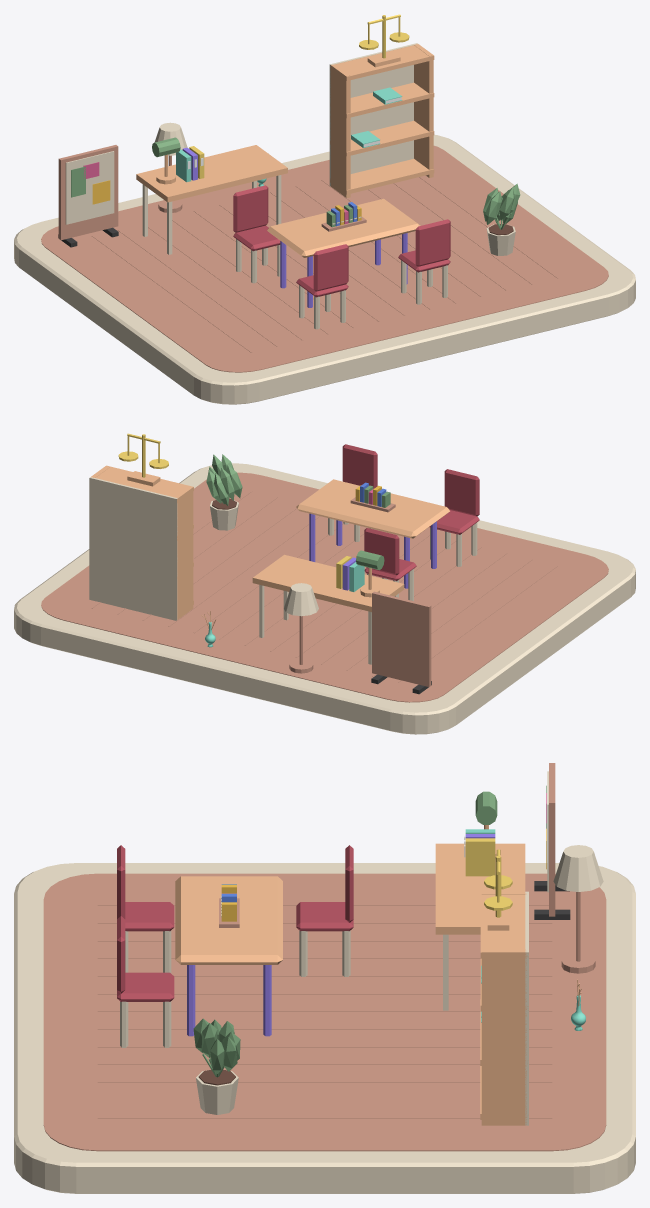
The model's file is room.fbx.
3 renders of one model, top to bottom at view 1: azimuth 30°, elevation 25°; view 2: azimuth 150°, elevation 25°; view 3: azimuth 270°, elevation 25°, orthographic. The views are drawn at different scales.
Visible parts, largest first — view 1: COM-02 Floor Surface, COM-01 Rounded Base Direct, Top, Rounded table top, Back, Side, Canvas, Panel, Pot, Side.001, Shelf, Backrest (+6 smaller); view 2: COM-02 Floor Surface, COM-01 Rounded Base Direct, Back, Panel, Rounded table top, Top, Side, Pot, Backrest, Backrest.001, Backrest.002, Shelf.003 (+2 smaller); view 3: COM-02 Floor Surface, COM-01 Rounded Base Direct, Rounded table top, Side.001, Top, Pot, Shelf.003, Lamp shade, Seat.001, Seat.002, Seat, File.002 (+14 smaller).
Boxes of the visible parts, left/top/right/bottom form: COM-02 Floor Surface: left=41, top=145, right=608, bottom=372; COM-01 Rounded Base Direct: left=14, top=134, right=635, bottom=404; Top: left=136, top=145, right=287, bottom=254; Rounded table top: left=267, top=198, right=420, bottom=257; Back: left=329, top=43, right=417, bottom=186; Side: left=330, top=64, right=350, bottom=197; Canvas: left=65, top=151, right=114, bottom=224; Panel: left=58, top=145, right=118, bottom=240; Pot: left=483, top=183, right=520, bottom=255; Side.001: left=414, top=44, right=433, bottom=177; Shelf: left=330, top=159, right=434, bottom=194; Backrest: left=313, top=244, right=348, bottom=291; COM-02 Floor Surface: left=41, top=472, right=608, bottom=702; COM-01 Rounded Base Direct: left=14, top=463, right=635, bottom=734; Back: left=89, top=477, right=177, bottom=620; Panel: left=372, top=591, right=431, bottom=686; Rounded table top: left=296, top=479, right=449, bottom=538; Top: left=252, top=554, right=404, bottom=664; Side: left=173, top=486, right=193, bottom=619; Pot: left=206, top=454, right=242, bottom=530; Backrest: left=444, top=469, right=479, bottom=516; Backrest.001: left=342, top=444, right=377, bottom=488; Backrest.002: left=364, top=528, right=399, bottom=575; Shelf.003: left=96, top=465, right=193, bottom=502; COM-02 Floor Surface: left=43, top=873, right=606, bottom=1151; COM-01 Rounded Base Direct: left=14, top=863, right=635, bottom=1193; Rounded table top: left=175, top=876, right=282, bottom=964; Side.001: left=481, top=949, right=526, bottom=1125; Top: left=435, top=843, right=525, bottom=1010; Pot: left=193, top=1018, right=240, bottom=1114; Shelf.003: left=480, top=892, right=528, bottom=958; Lamp shade: left=553, top=845, right=603, bottom=891; Seat.001: left=117, top=972, right=174, bottom=1001; Seat.002: left=296, top=902, right=353, bottom=931; Seat: left=125, top=902, right=174, bottom=931; File.002: left=465, top=838, right=495, bottom=876.
Bounding box in the file's own units: 600 × 250 × 520.
